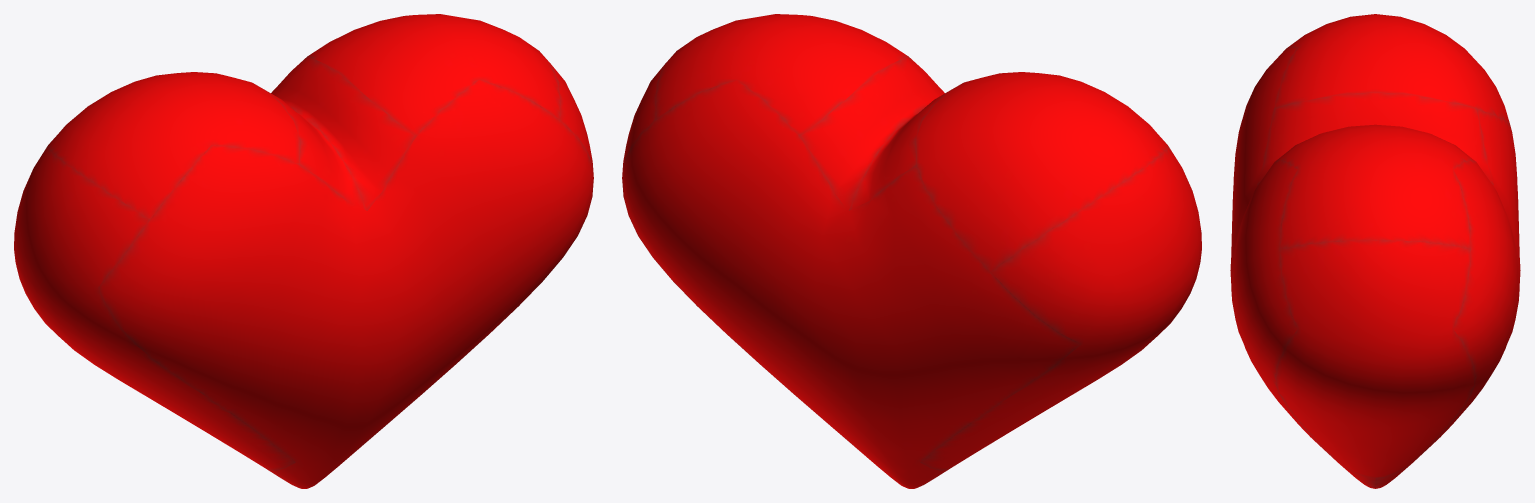
File: heart_xhi.obj
3 renders of one model, left to right at view 1: azimuth 30°, elevation 25°; view 2: azimuth 150°, elevation 25°; view 3: azimuth 270°, elevation 25°, orthographic. The views are drawn at different scales.
Parts seen in each view (by area): view 1: pCube2; view 2: pCube2; view 3: pCube2.
Boxes of the visible parts, box(x1,y1,x2,y2) form: pCube2: box(14, 14, 593, 488); pCube2: box(622, 14, 1201, 488); pCube2: box(1230, 14, 1520, 488).
Size of the model in its own units: 1.88 by 1.44 by 0.9396.
1 material, 1 textured.
